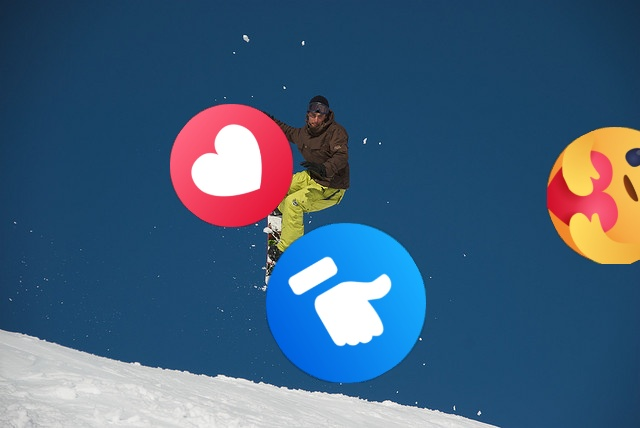care: (547, 127, 640, 264)
like: (266, 223, 426, 383)
love: (170, 104, 293, 227)
